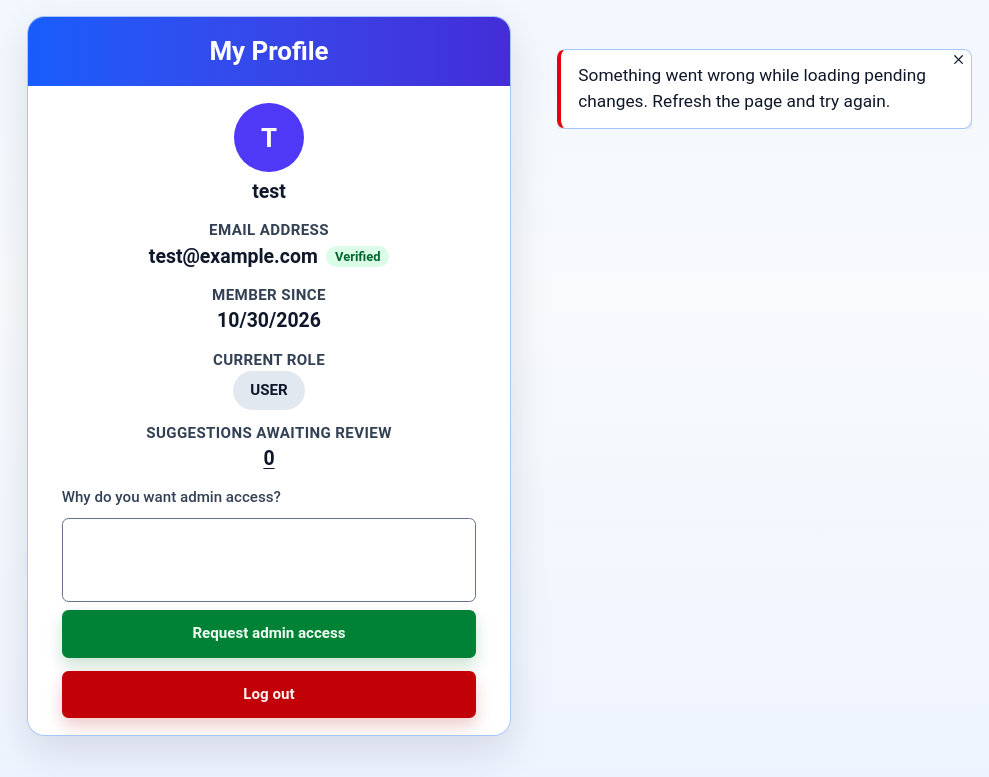
Profile Component handle logout › shows an error and stays on profile when logout returns an error
What coordinates should you click on to do the following:
click the button "Log out"
I would click on:
 (269, 694)
Its box is 62,671 -> 476,718.
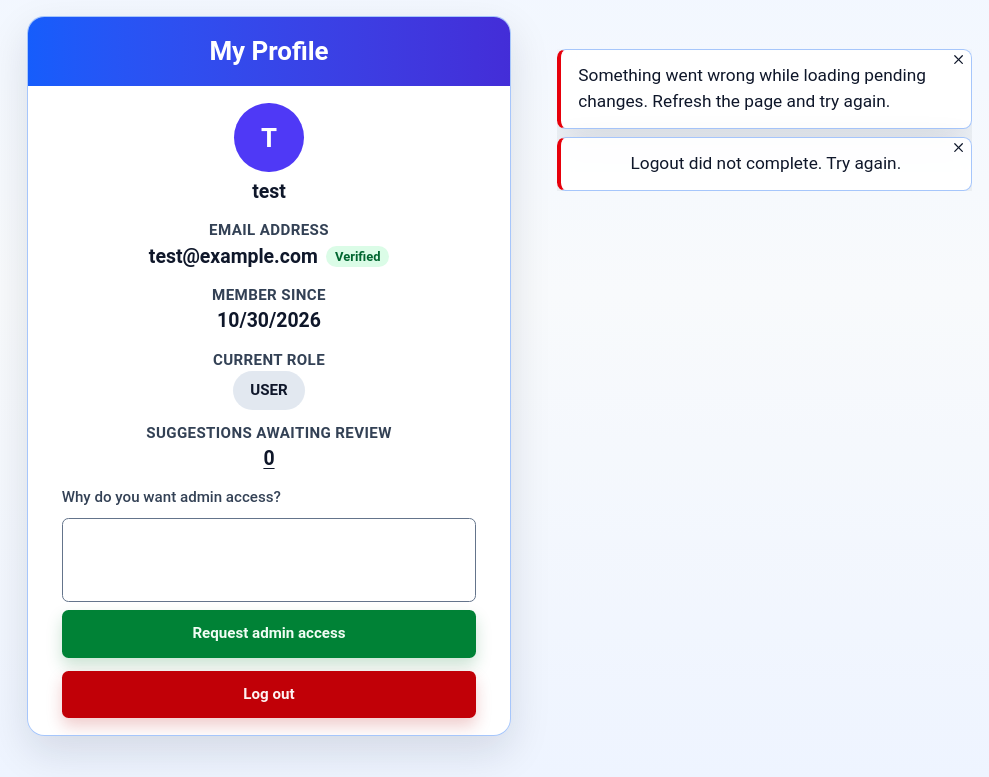
Expected: the heading "My Profile" is shown, 209,36 -> 329,66
Now the text "Logout did not complete. Try again." is shown, box 630,151 -> 901,177
